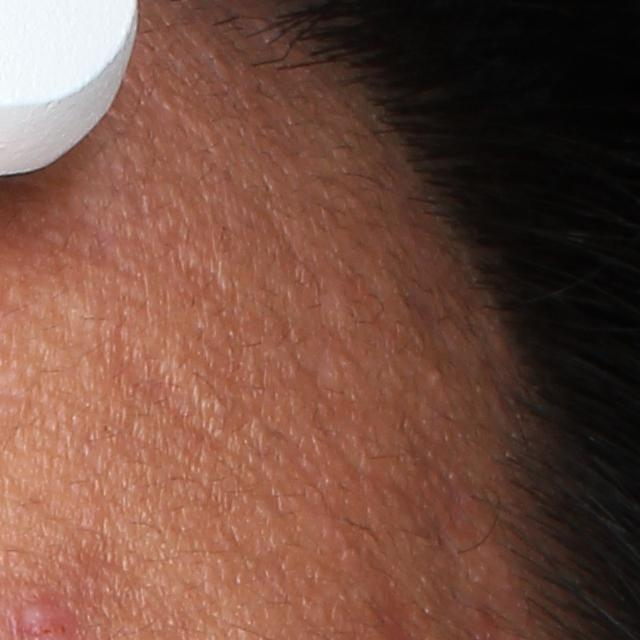comedo: (433, 366, 447, 386)
papule: (21, 594, 65, 640)
